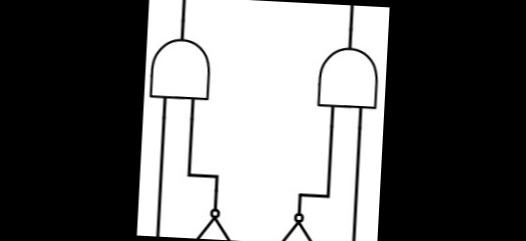and: (146, 32, 216, 103), (314, 40, 384, 110)
not: (178, 204, 246, 240), (262, 207, 332, 241)
